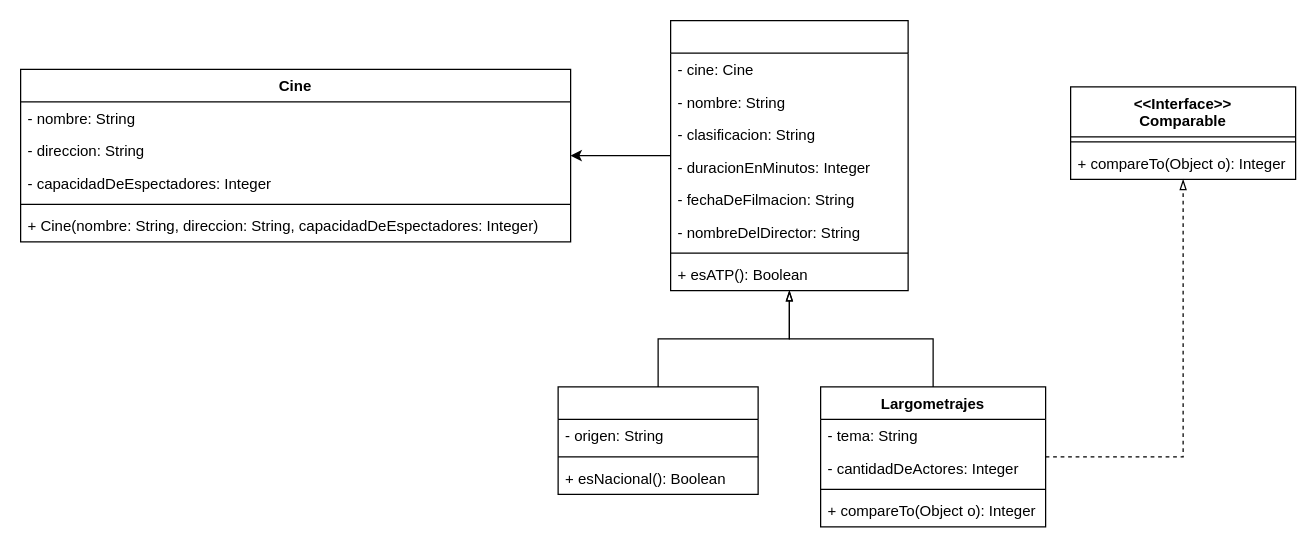
The diagram is 1316 pixels wide and 548 high, and some of its shapes have lost their labels. The shapes that lost their labels are listed below. From the top down, each one's box as (x1, y1, x2, y2) in pixels, then its label:
(669, 19, 908, 291): Peliculas
(557, 386, 758, 494): Cortos
